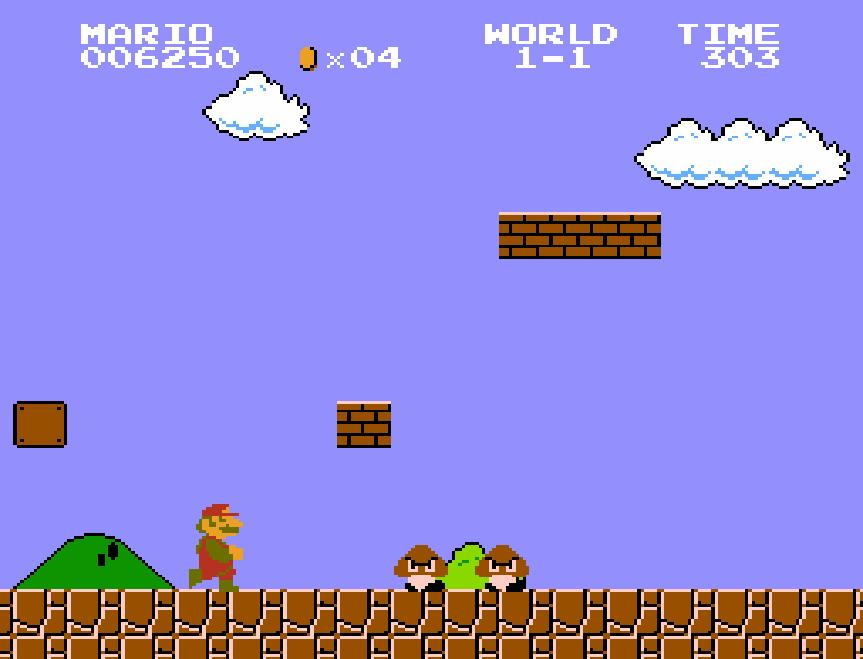big_mario: (186, 496, 244, 594)
